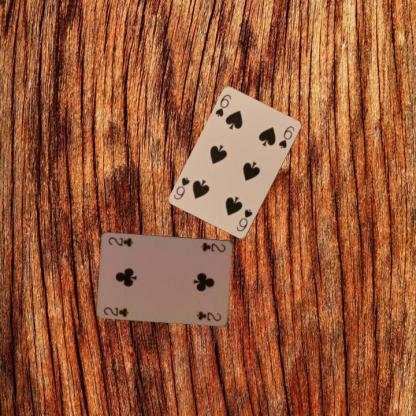2c: (198, 239, 228, 254), (101, 304, 130, 318)
6s: (212, 92, 233, 118), (234, 207, 254, 233)
